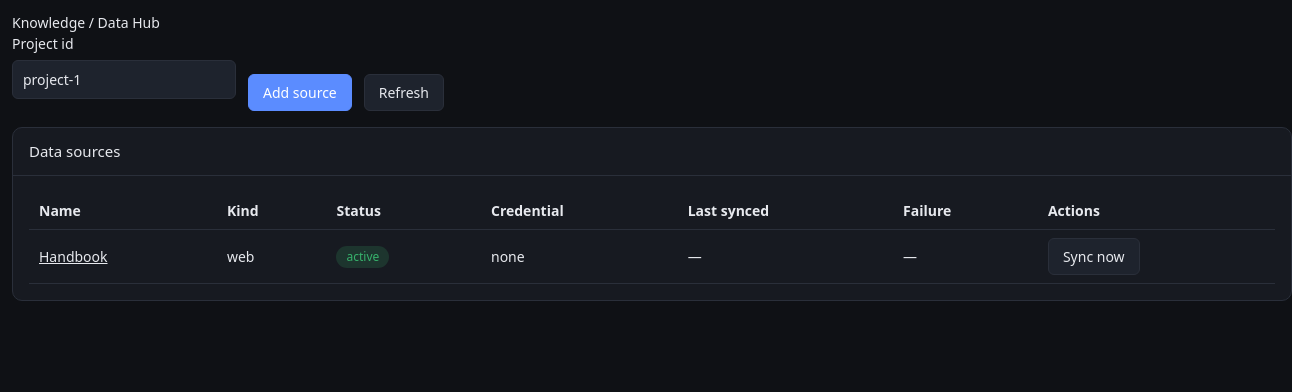
it: KnowledgePage › syncs a real source and displays the returned job
The image size is (1292, 392).
Click the button "Sync now" at (1094, 256), box [1048,238,1140,274]
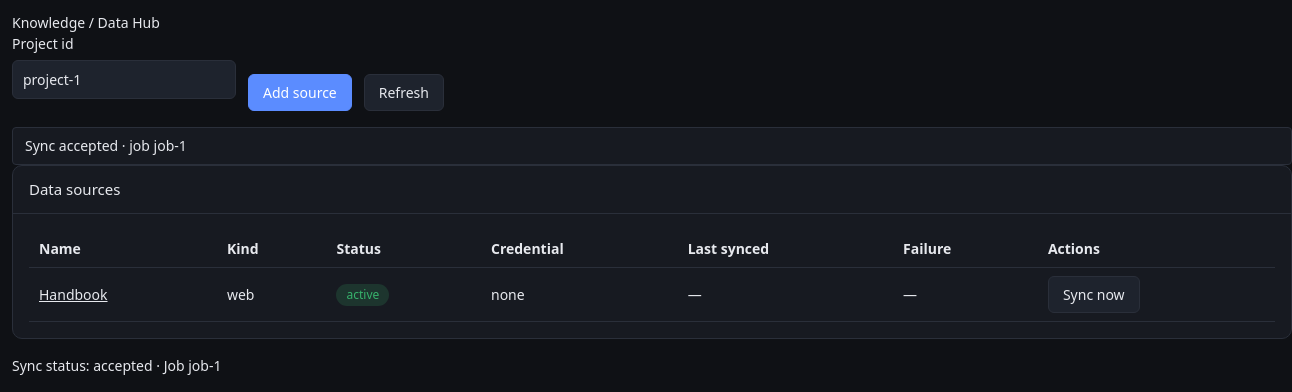
Expected: the text "Sync status: accepted · Job job-1" is shown, [12,356,221,374]
